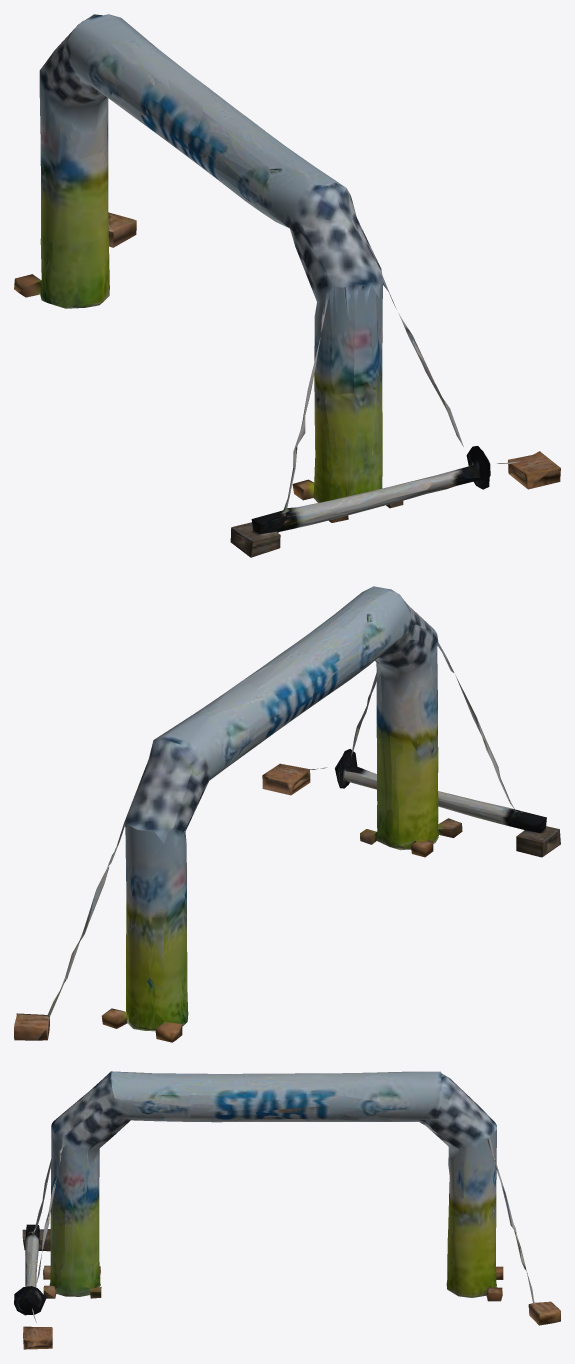
Rendered from gate_start_lod2.glb.
3 views of the same model, one above another, from view 1: azimuth 30°, elevation 25°; view 2: azimuth 150°, elevation 25°; view 3: azimuth 270°, elevation 25° (orthographic). The views are drawn at different scales.
Parts seen in each view (by area): view 1: tripo_node_7c247845; view 2: tripo_node_7c247845; view 3: tripo_node_7c247845.
Boxes of the visible parts, bbox=[...] form: tripo_node_7c247845: bbox=[14, 14, 560, 557]; tripo_node_7c247845: bbox=[14, 586, 560, 1042]; tripo_node_7c247845: bbox=[14, 1071, 560, 1349].
Size of the model in its own units: 47.12 by 43.08 by 99.85.
Materials: 1 (1 with a texture image).
